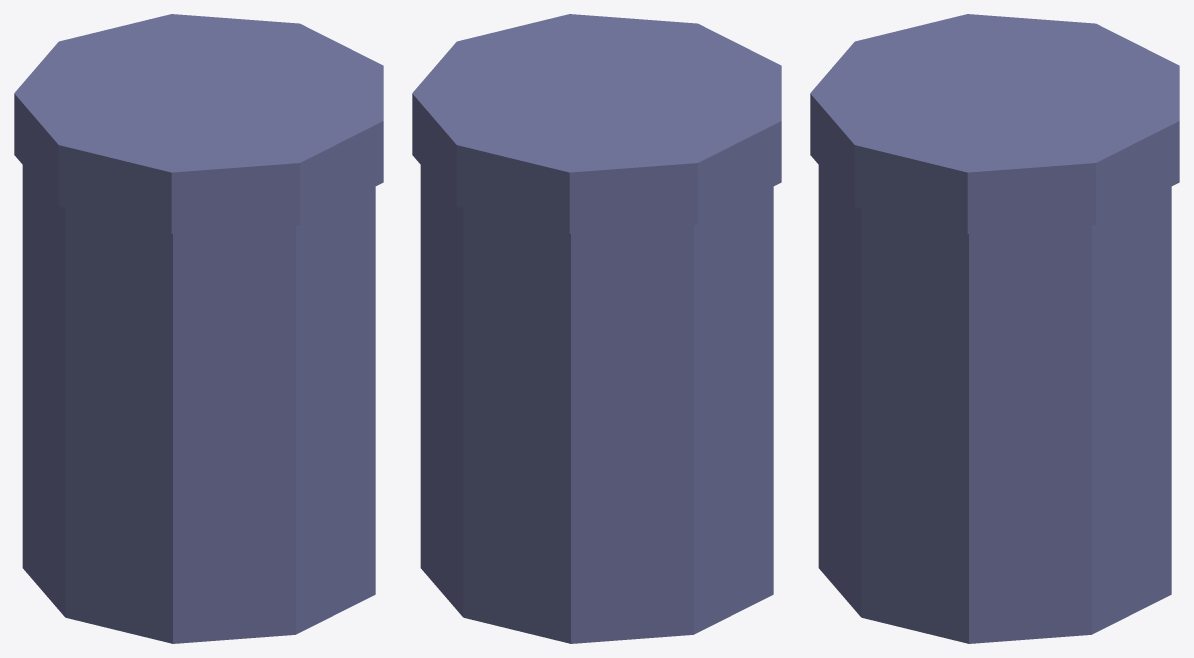
3 views of the same model, side by side, from view 1: azimuth 30°, elevation 25°; view 2: azimuth 150°, elevation 25°; view 3: azimuth 270°, elevation 25° (orthographic).
Visible parts, largest first — view 1: Box_3; view 2: Box_3; view 3: Box_3.
Boxes of the visible parts, x1,y1,x2,y2 form: Box_3: (14, 14, 383, 643); Box_3: (412, 14, 781, 643); Box_3: (810, 14, 1179, 643).
Size of the model in its own units: 20.97 by 20.65 by 29.28.
